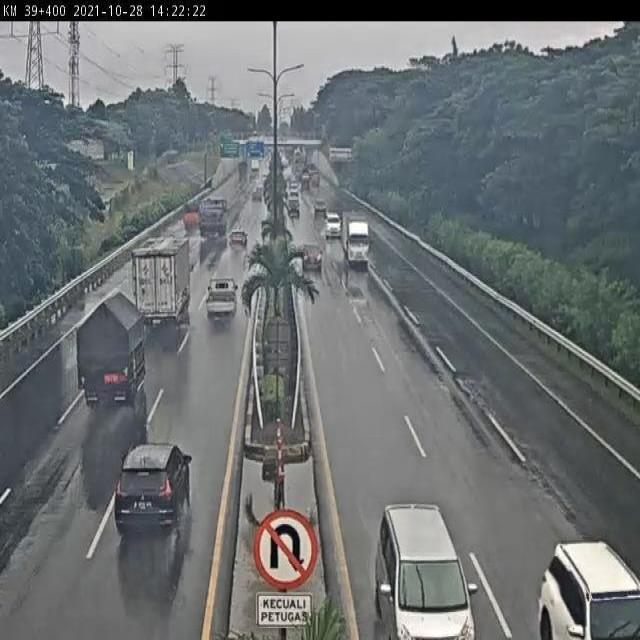car: (373, 505, 479, 640), (114, 440, 194, 533), (204, 274, 238, 322), (300, 237, 321, 267), (227, 225, 249, 251)
truck-l-: (133, 236, 192, 329), (196, 197, 229, 240)
truck-m-: (75, 291, 145, 412)
truck-s-: (341, 210, 370, 266), (183, 201, 204, 232)
